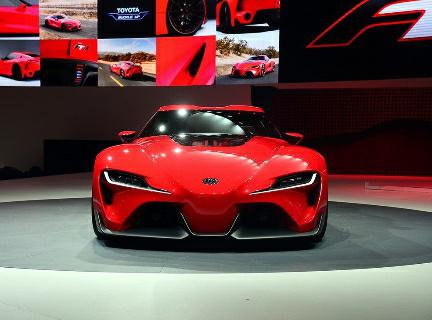丰田-FT-1: (86, 104, 332, 250)
